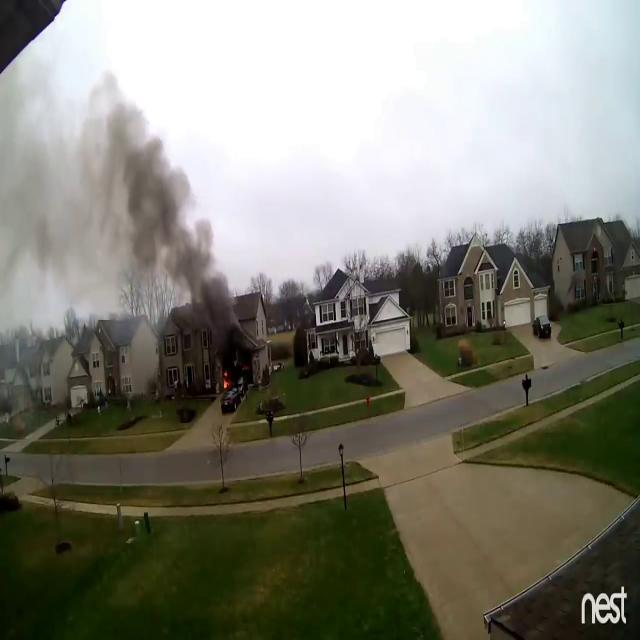Fire: (219, 364, 233, 398)
Smoke: (2, 59, 234, 354)
